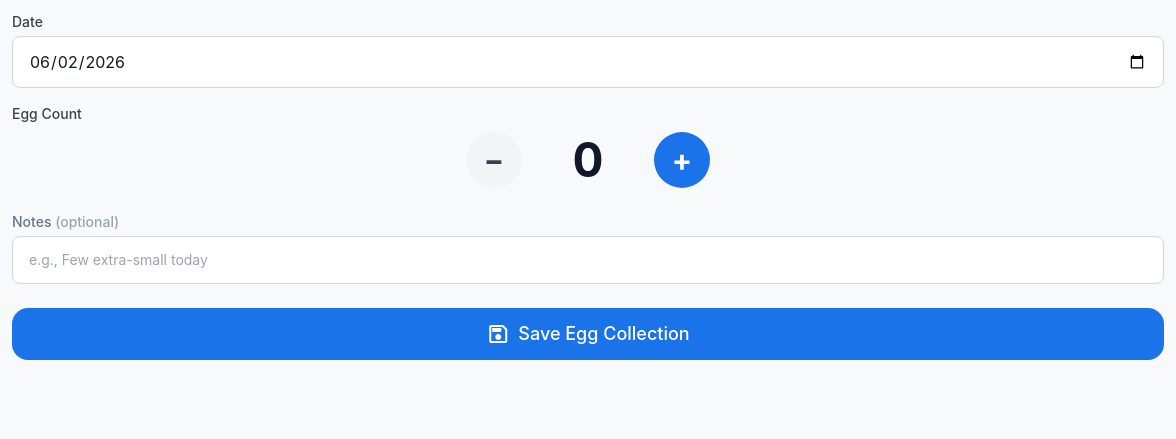
Scenario: EggCollectionForm › shows error when saving fails
Click the button named "Increase egg count" at (682, 160), box [654,132,710,188]
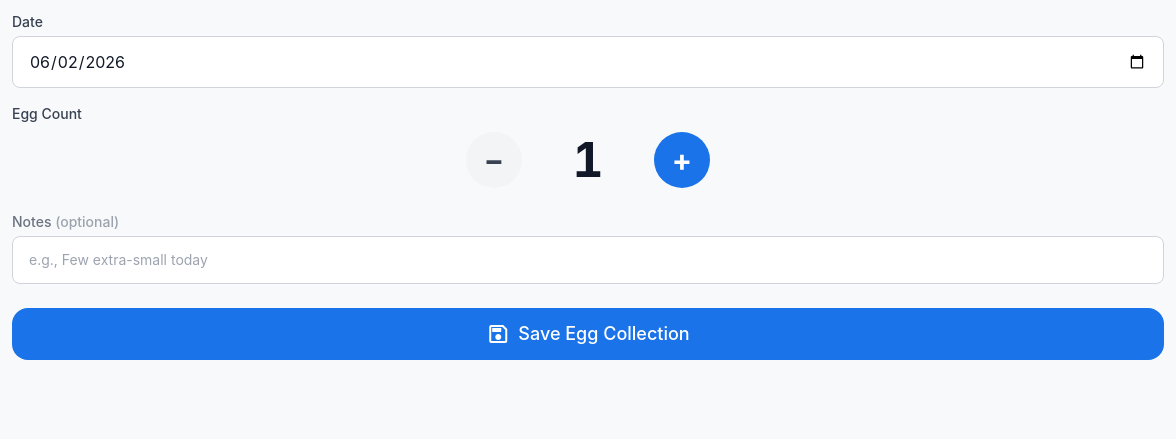
Click the button labelled "Save Egg Collection" at (588, 334), box [12,308,1164,360]
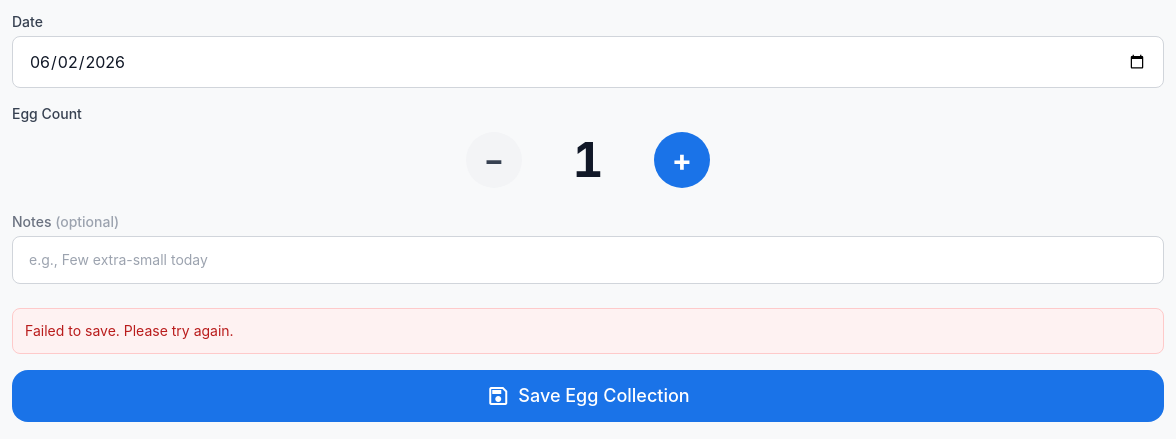
Check: the text "Failed to save. Please try again." is shown, box [25,322,234,339]
